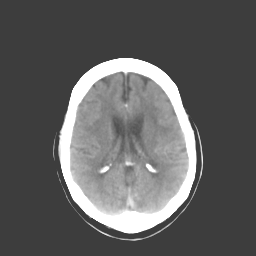ischemic: (147, 111, 185, 137)
